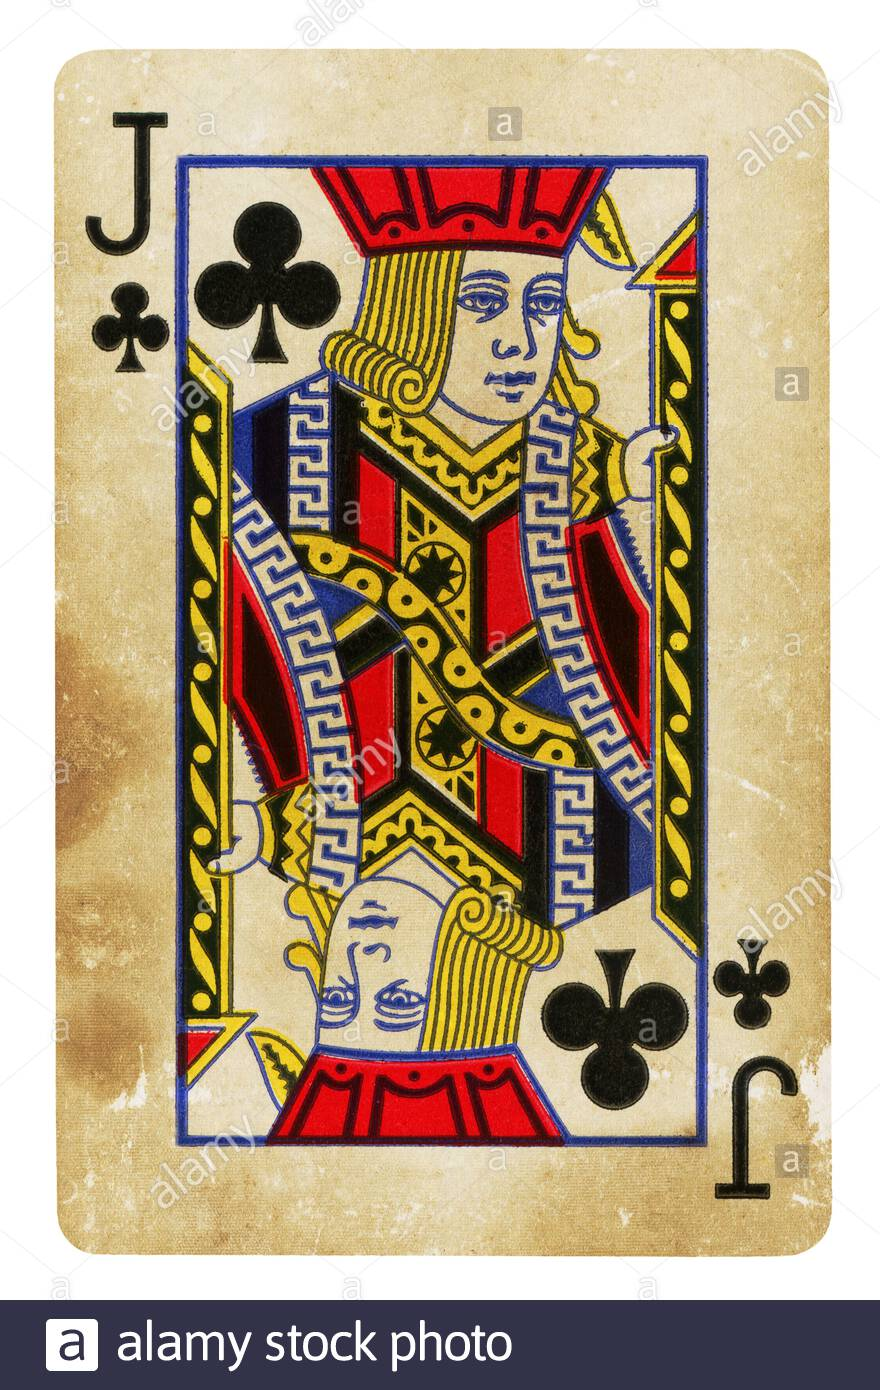jack of clubs: (56, 56, 833, 1256)
